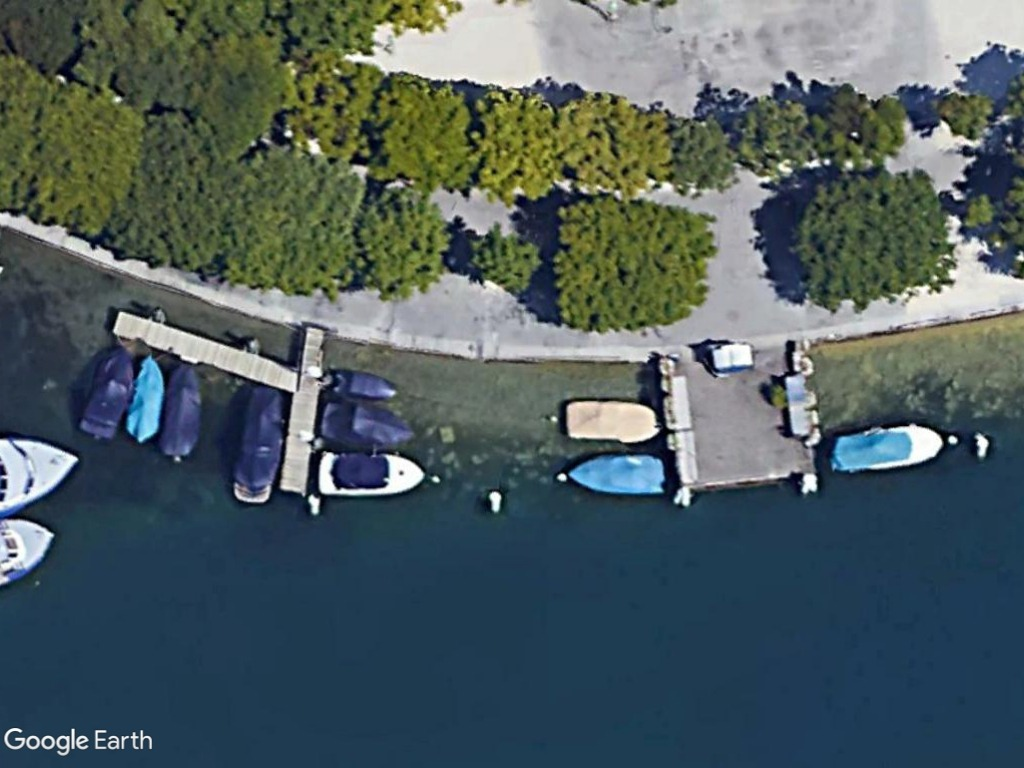boat: (313, 448, 427, 500), (827, 425, 944, 474), (561, 397, 664, 444), (566, 449, 668, 495)
